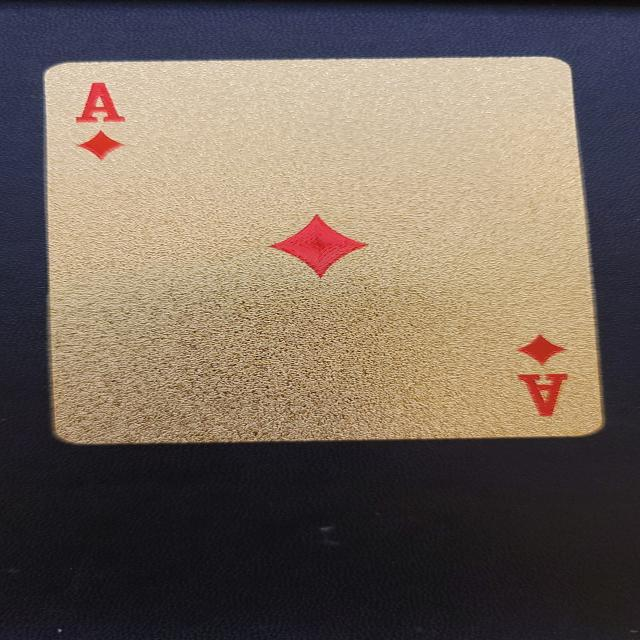Ace of diamonds: (39, 52, 611, 448)
